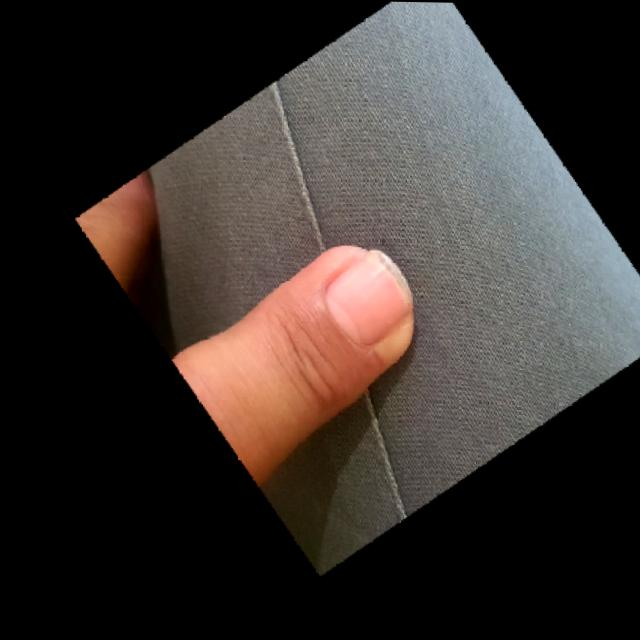Nail: (324, 254, 412, 347)
